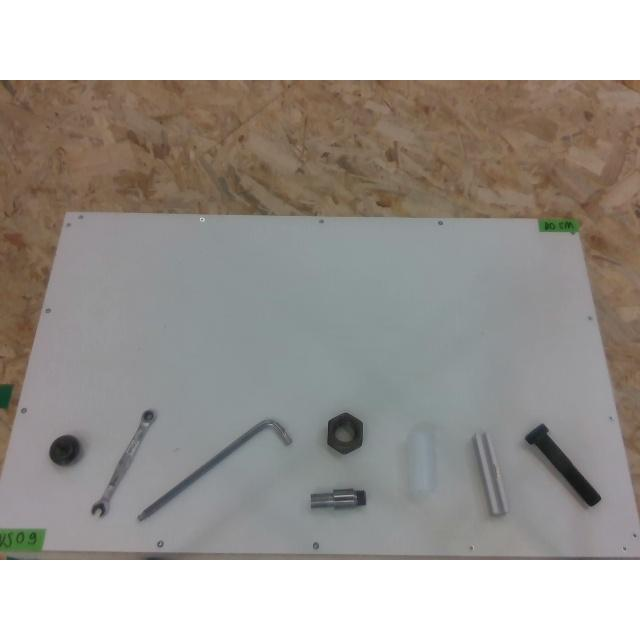AllenKey: (137, 420, 291, 520)
Axis2: (310, 488, 366, 508)
Bearing2: (48, 434, 84, 466)
F20_20_G: (474, 432, 506, 516)
M20_100: (524, 424, 600, 504)
M30: (326, 413, 362, 453)
Wrench: (90, 408, 154, 516)
